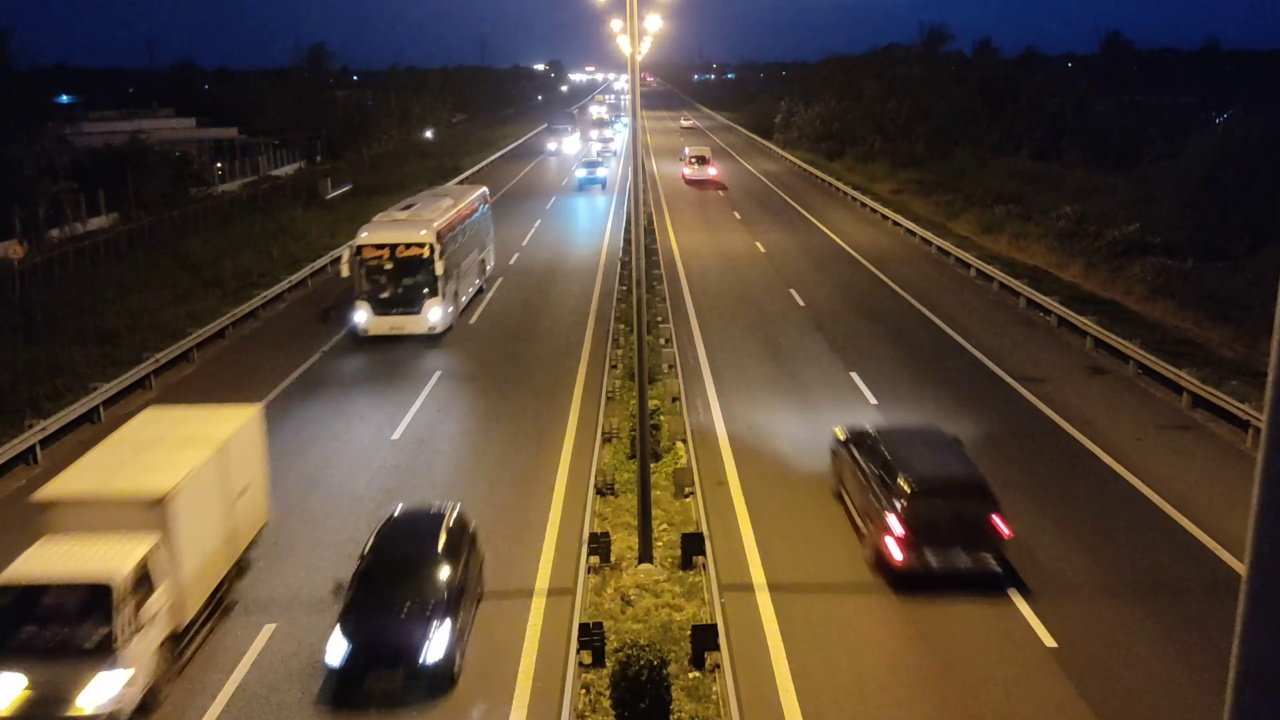bus: (346, 183, 496, 339)
car: (314, 499, 487, 707), (827, 419, 1017, 593), (573, 159, 609, 191)
truck: (1, 400, 275, 719)
